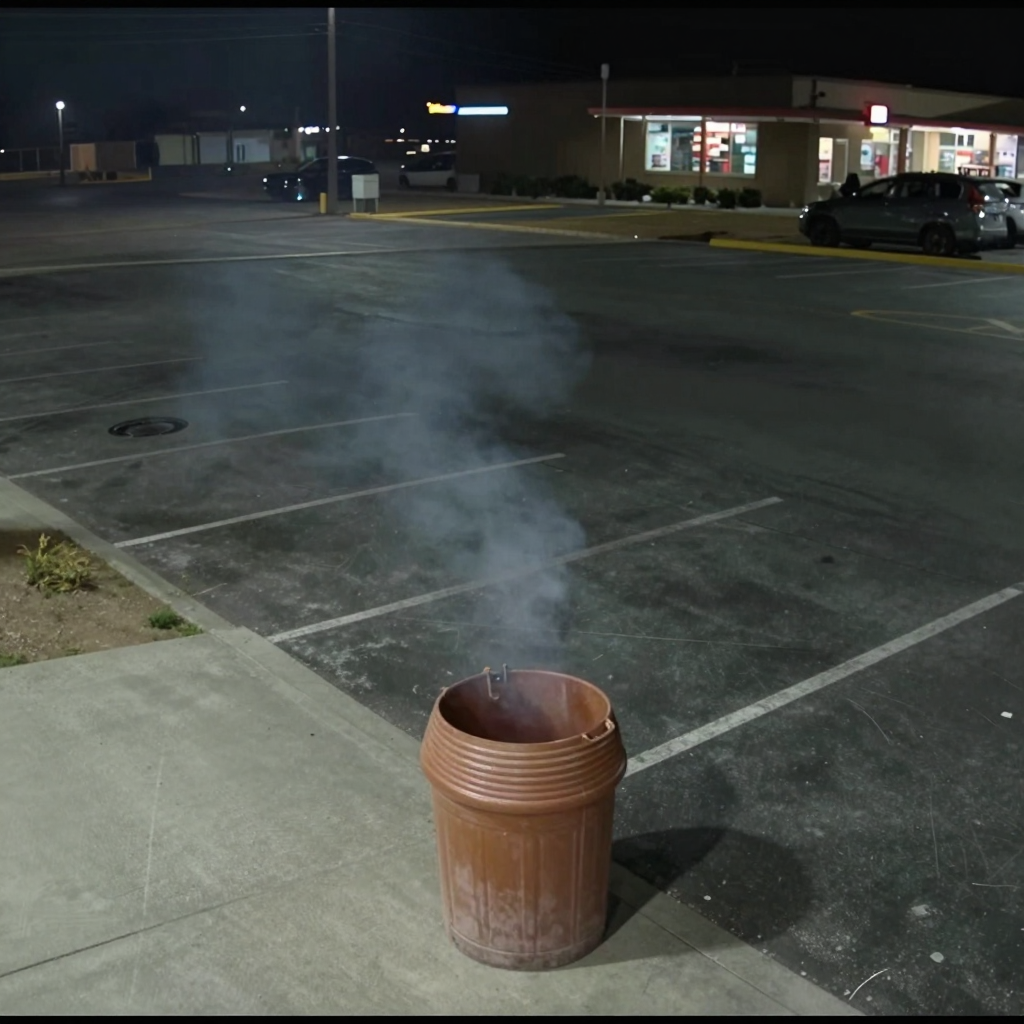Explosion: (161, 232, 646, 749)
